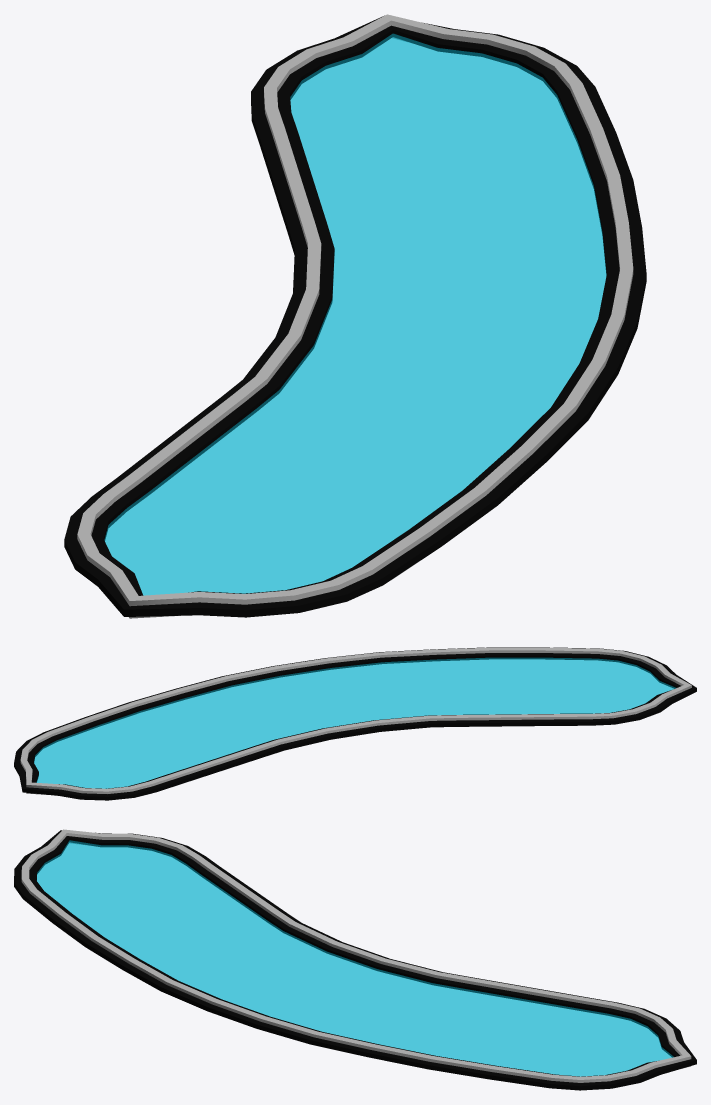
File: HighlightMana.fbx
The picture shows the model from 3 angles, top to bottom: view 1: azimuth 30°, elevation 25°; view 2: azimuth 150°, elevation 25°; view 3: azimuth 270°, elevation 25°; orthographic projection. The views are drawn at different scales.
Visible parts, largest first — view 1: HighlightCircle, HighlightCircleIn, HighlightCircleOutline; view 2: HighlightCircle, HighlightCircleIn, HighlightCircleOutline; view 3: HighlightCircle, HighlightCircleIn, HighlightCircleOutline.
Part boxes in pixels (x1=…): HighlightCircle: x1=77, y1=14, x2=633, y2=618; HighlightCircleIn: x1=104, y1=33, x2=606, y2=595; HighlightCircleOutline: x1=64, y1=15, x2=646, y2=617; HighlightCircle: x1=20, y1=647, x2=691, y2=794; HighlightCircleIn: x1=34, y1=657, x2=675, y2=788; HighlightCircleOutline: x1=14, y1=647, x2=696, y2=800; HighlightCircle: x1=21, y1=829, x2=691, y2=1082; HighlightCircleIn: x1=37, y1=840, x2=673, y2=1076; HighlightCircleOutline: x1=14, y1=830, x2=696, y2=1090.
Bounding box in the file's own units: 62.44 × 1.17 × 70.38.
